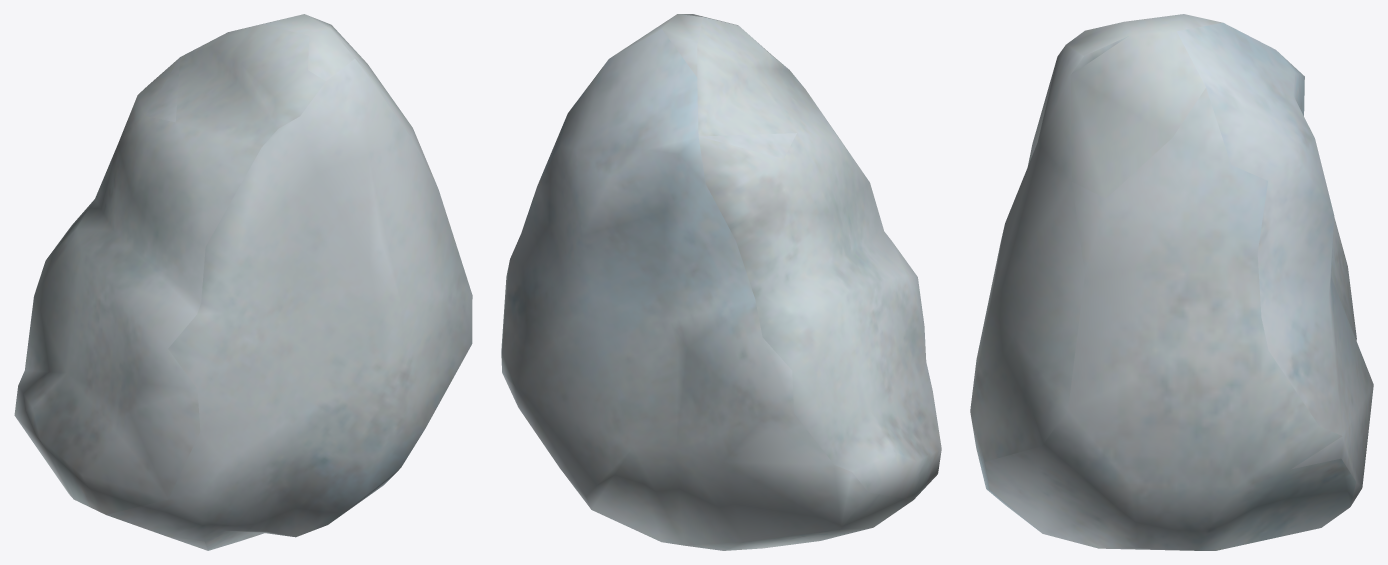
Rendered from P_BoulderClassic5.obj.
3 views of the same model, side by side, from view 1: azimuth 30°, elevation 25°; view 2: azimuth 150°, elevation 25°; view 3: azimuth 270°, elevation 25° (orthographic). The views are drawn at different scales.
Bounding box in the file's own units: 11.15 × 13.08 × 8.73.
